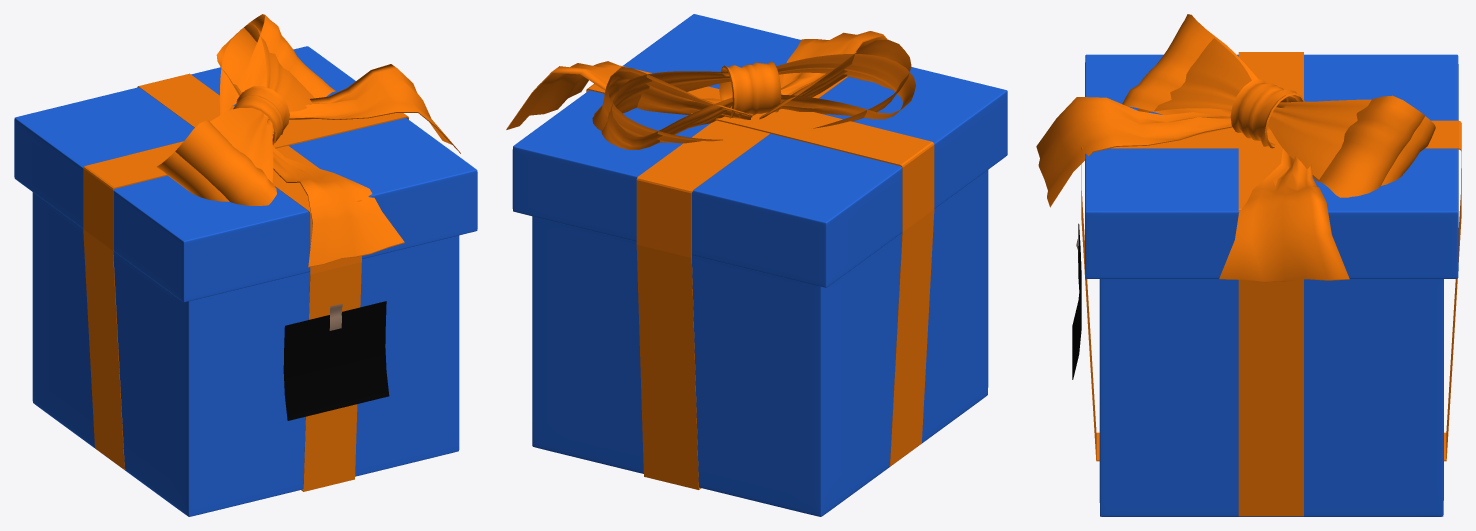
Rendered from gift5.glb.
3 renders of one model, left to right at view 1: azimuth 30°, elevation 25°; view 2: azimuth 150°, elevation 25°; view 3: azimuth 270°, elevation 25°, orthographic. The views are drawn at different scales.
Parts seen in each view (by area): view 1: Cube004, Plane005, Plane012, Plane003, Plane002, Plane010.001, Plane010, Cylinder001; view 2: Cube004, Plane003, Plane005, Plane010, Plane010.001, Plane012, Cylinder001; view 3: Cube004, Plane005, Plane012, Plane010, Plane010.001, Plane003, Cylinder001, Plane002.
Boxes of the visible parts, <box> form: Cube004: <box>14,46,477,516</box>; Plane005: <box>83,113,408,469</box>; Plane012: <box>263,64,460,267</box>; Plane003: <box>137,73,361,491</box>; Plane002: <box>283,301,389,420</box>; Plane010.001: <box>156,108,276,205</box>; Plane010: <box>216,14,335,115</box>; Cylinder001: <box>233,86,289,144</box>; Cube004: <box>512,14,1007,516</box>; Plane003: <box>636,52,856,489</box>; Plane005: <box>586,65,934,466</box>; Plane010: <box>592,67,753,149</box>; Plane010.001: <box>759,39,915,128</box>; Plane012: <box>506,31,887,129</box>; Cylinder001: <box>719,61,781,118</box>; Cube004: <box>1085,54,1458,516</box>; Plane005: <box>1238,52,1303,516</box>; Plane012: <box>1036,97,1349,282</box>; Plane010: <box>1268,95,1435,197</box>; Plane010.001: <box>1122,14,1258,116</box>; Plane003: <box>1081,120,1461,461</box>; Cylinder001: <box>1230,79,1304,148</box>; Plane002: <box>1072,223,1081,379</box>.
Bounding box in the file's own units: 2.58 × 2.5 × 2.47.
